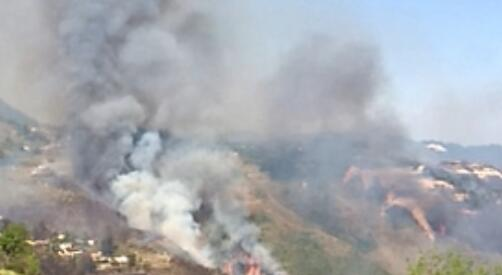yanwu: (1, 1, 499, 273)
